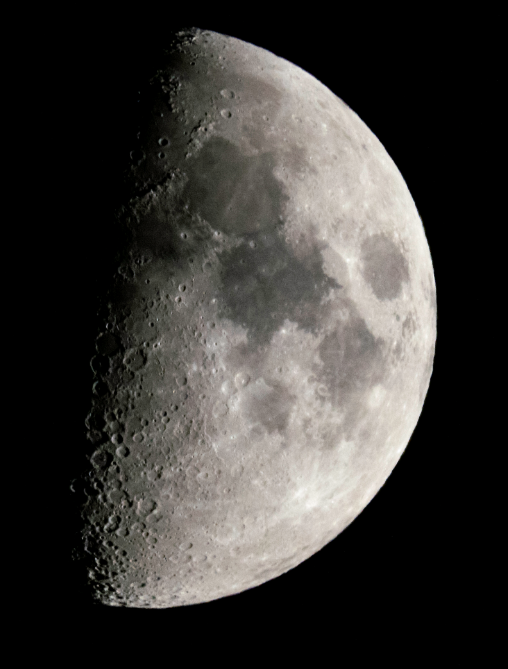crater: (352, 362, 393, 426), (117, 341, 156, 382), (227, 362, 259, 395), (241, 417, 273, 448), (212, 79, 250, 102), (252, 107, 277, 135), (135, 495, 162, 519), (213, 104, 239, 128), (145, 566, 170, 588), (227, 458, 250, 481), (173, 537, 201, 554), (287, 108, 305, 134), (130, 426, 151, 447), (174, 226, 195, 246), (394, 393, 411, 417), (171, 277, 192, 295)
